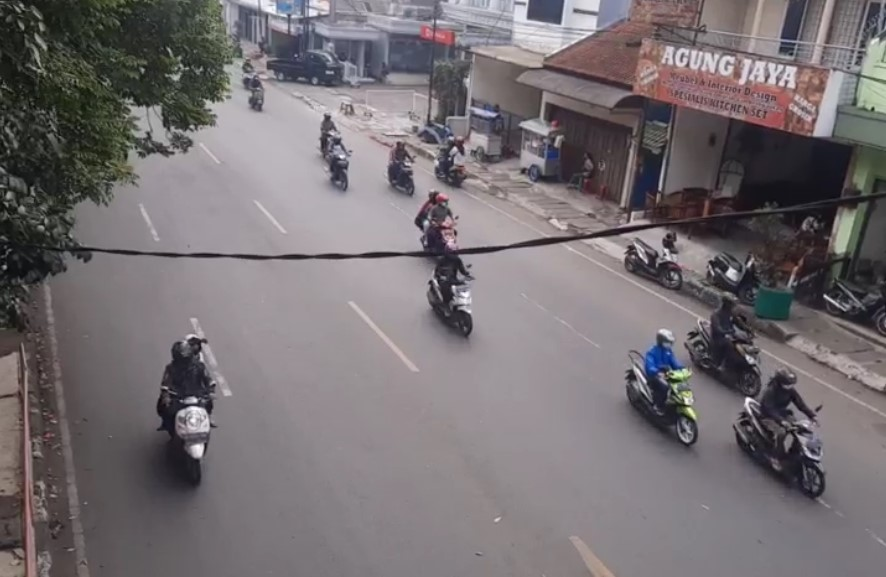motor: (149, 329, 230, 488), (740, 369, 831, 502), (620, 327, 703, 450), (685, 295, 763, 399), (429, 246, 475, 334), (417, 189, 462, 255), (383, 138, 422, 196), (325, 138, 354, 193)
